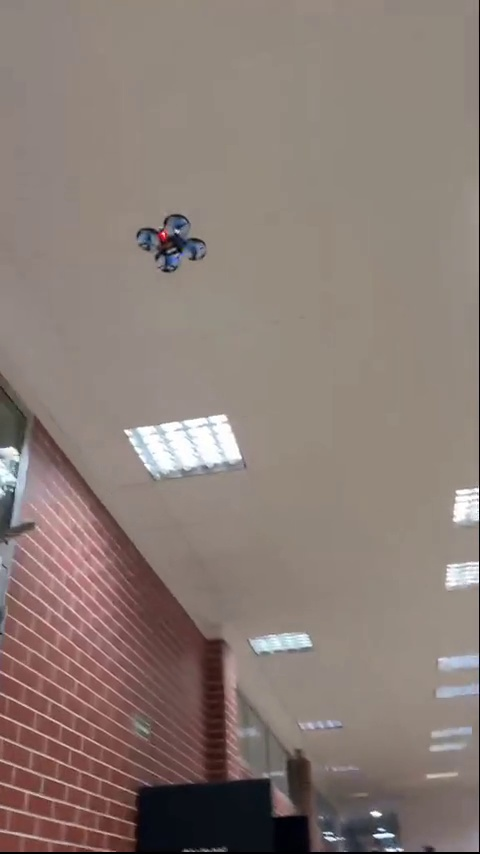drone: (135, 217, 204, 273)
